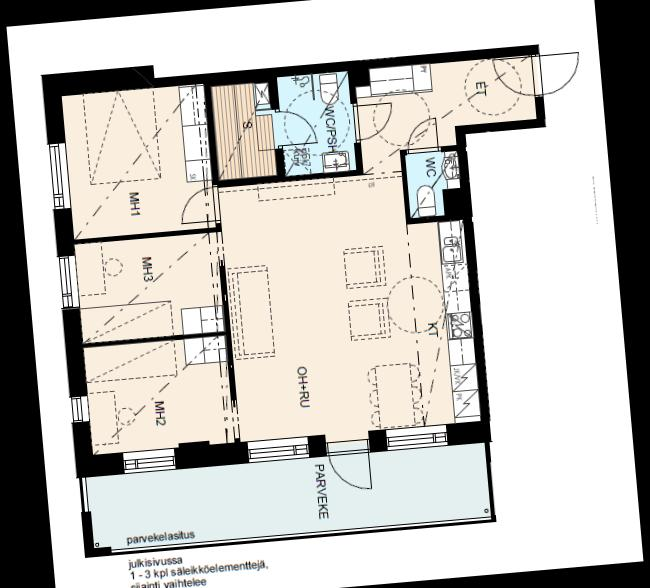door: (326, 436, 374, 495), (528, 48, 586, 96), (492, 49, 543, 100), (349, 98, 398, 144), (268, 107, 318, 147), (177, 183, 222, 224), (406, 114, 444, 154)
window: (42, 135, 75, 216), (382, 419, 454, 454), (244, 432, 314, 465), (118, 444, 181, 476), (52, 248, 83, 312), (64, 388, 94, 426)
